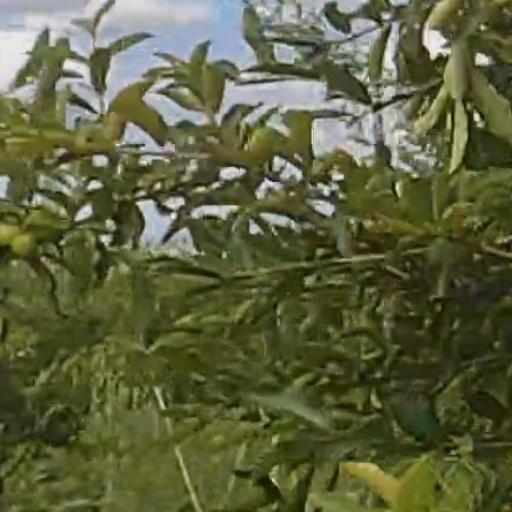acerola_verde: (10, 226, 54, 248), (248, 128, 276, 159)
